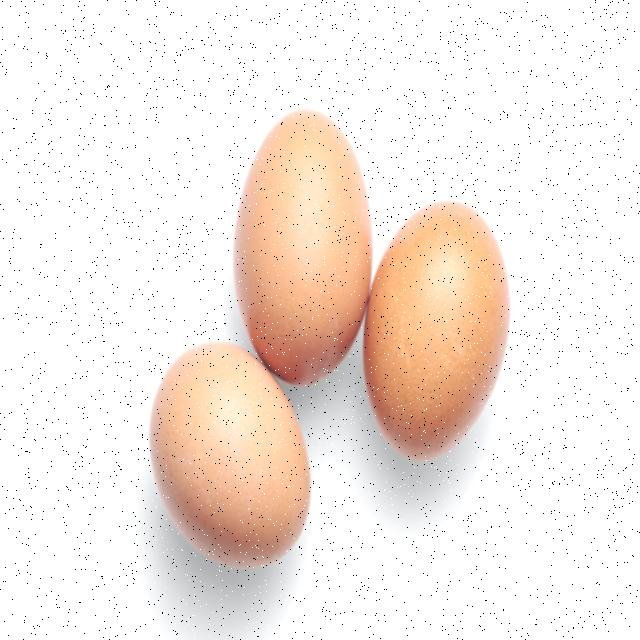Egg: (113, 289, 321, 560), (203, 48, 369, 354), (398, 144, 518, 458)
